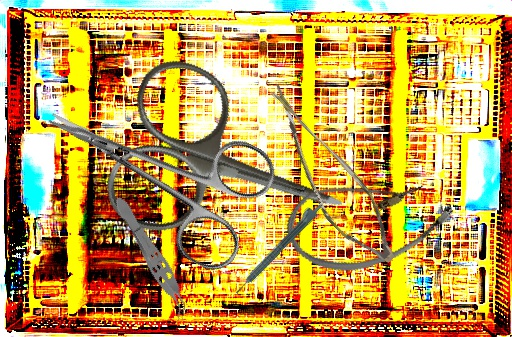Cannula: (277, 150, 462, 289)
Handpiece: (229, 199, 324, 297)
Iris Scissors: (96, 49, 370, 288), (20, 54, 286, 279)
Micro Scissor: (231, 80, 423, 273)
Tissue Forceps: (107, 192, 198, 325)
